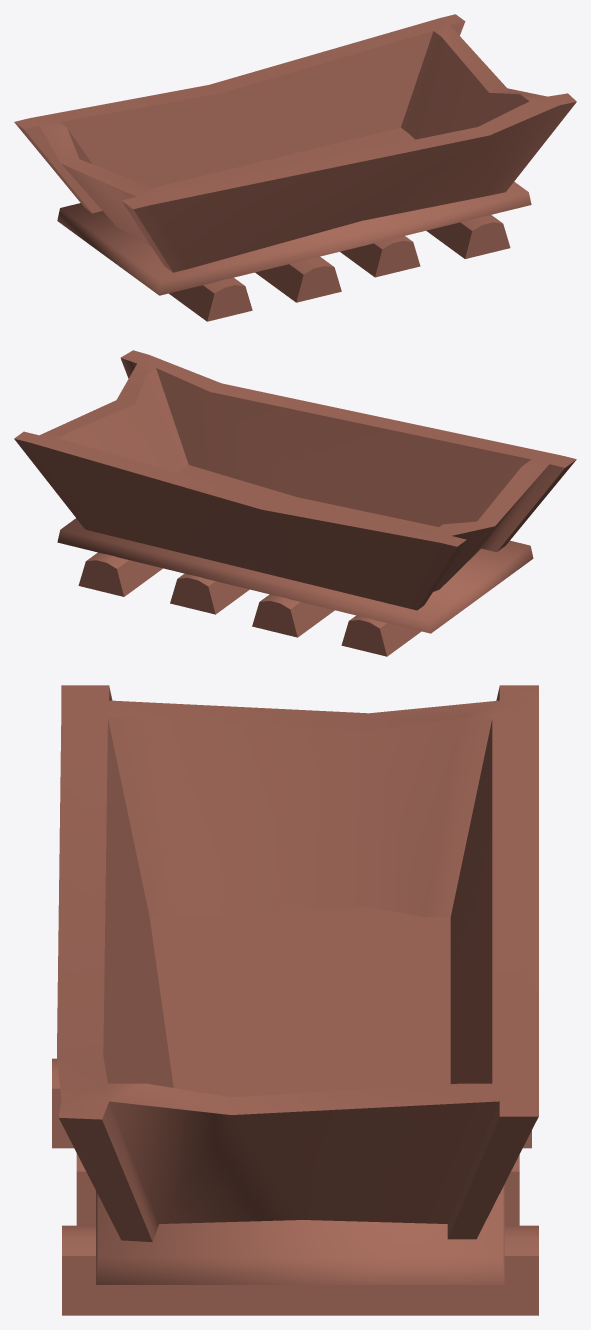
The model's file is Bebedouro_Cavalo.fbx.
3 renders of one model, top to bottom at view 1: azimuth 30°, elevation 25°; view 2: azimuth 150°, elevation 25°; view 3: azimuth 270°, elevation 25°, orthographic. The views are drawn at different scales.
Visible parts, largest first — view 1: Bebedouro_Cavalo; view 2: Bebedouro_Cavalo; view 3: Bebedouro_Cavalo.
Boxes of the visible parts, x1,y1,x2,y2 form: Bebedouro_Cavalo: [14, 14, 576, 321]; Bebedouro_Cavalo: [14, 350, 576, 656]; Bebedouro_Cavalo: [52, 685, 538, 1315].
Bounding box in the file's own units: 1.25 × 2.63 × 0.7393.
